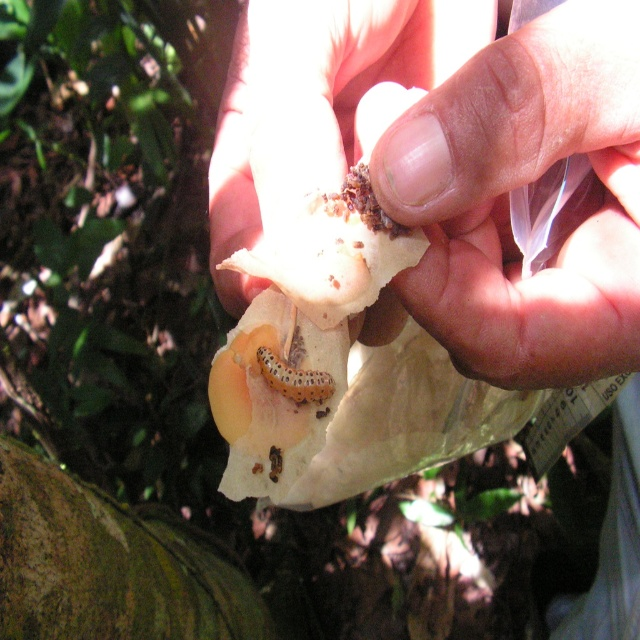Caterpillar: (254, 347, 336, 405)
